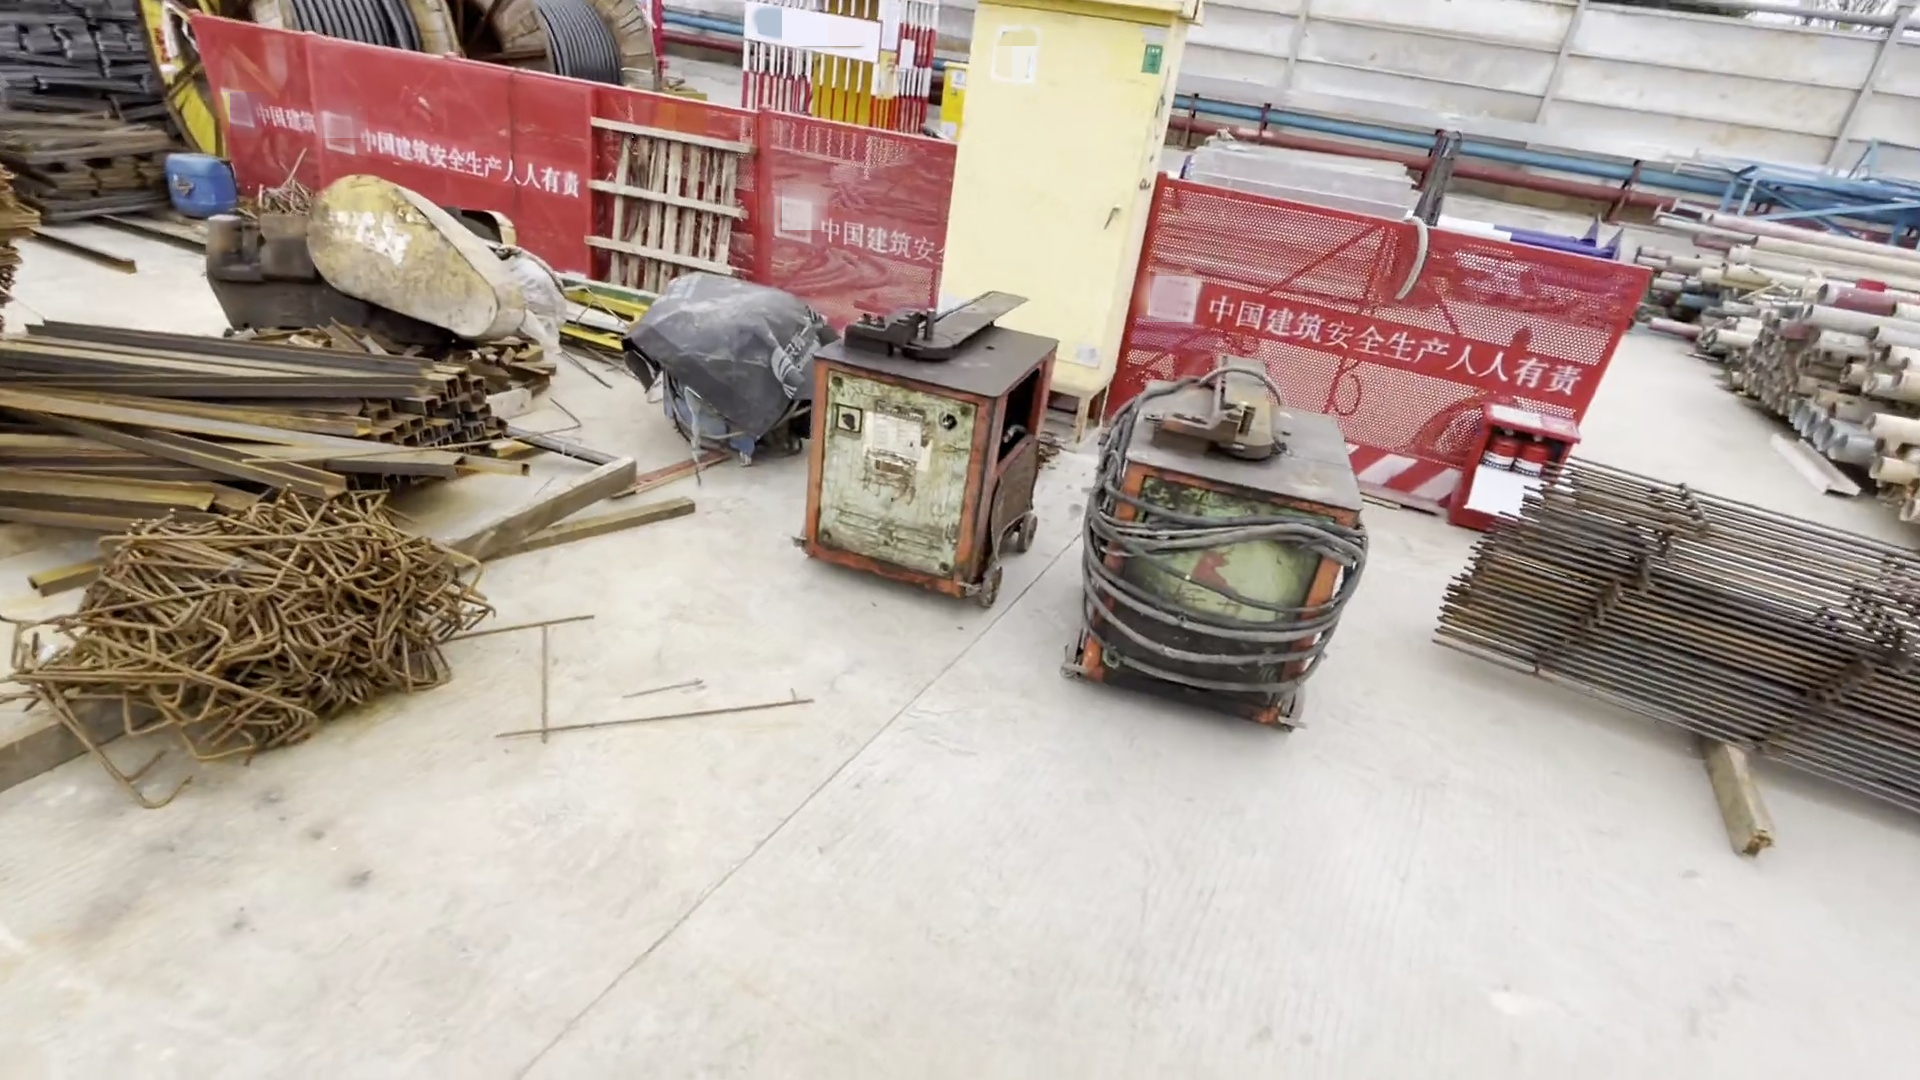ebox: (913, 3, 1208, 369)
fence: (177, 1, 943, 327), (1110, 161, 1589, 505)
